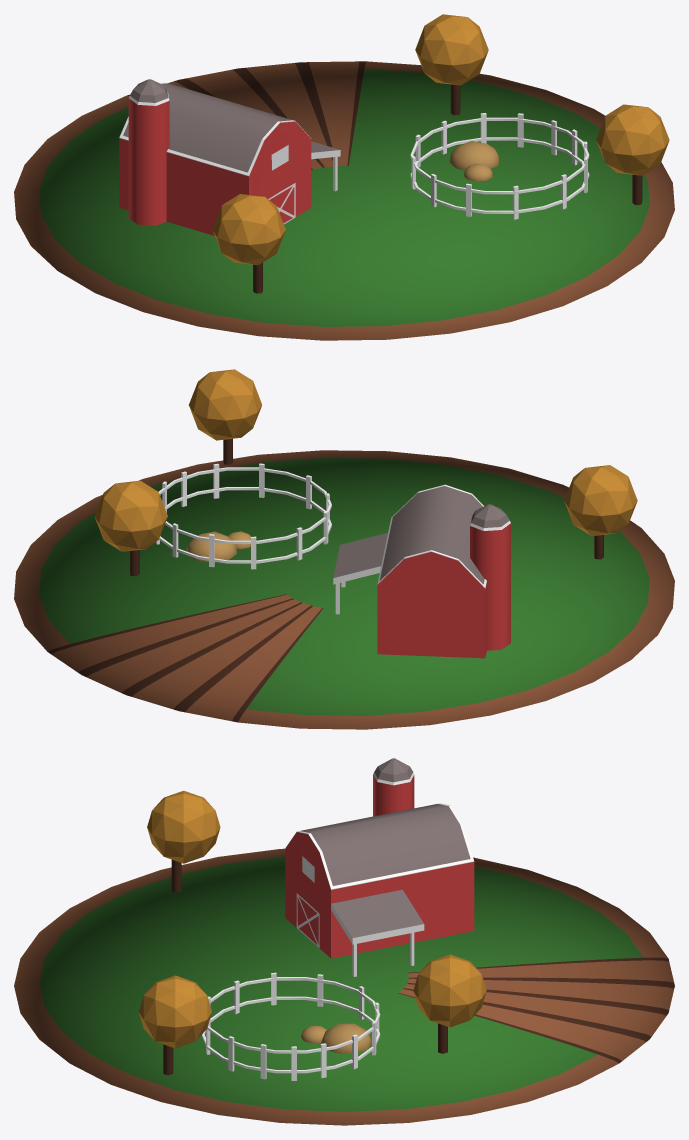
The picture shows the model from 3 angles, top to bottom: view 1: azimuth 30°, elevation 25°; view 2: azimuth 150°, elevation 25°; view 3: azimuth 270°, elevation 25°; orthographic projection.
Visible parts, largest first — view 1: Sphere001; view 2: Sphere001; view 3: Sphere001.
Boxes of the visible parts, bbox=[...] form: Sphere001: bbox=[14, 14, 674, 340]; Sphere001: bbox=[14, 369, 674, 729]; Sphere001: bbox=[14, 758, 674, 1125].
Bounding box in the file's own units: 220 × 56.33 × 220.
1 material, 1 textured.
